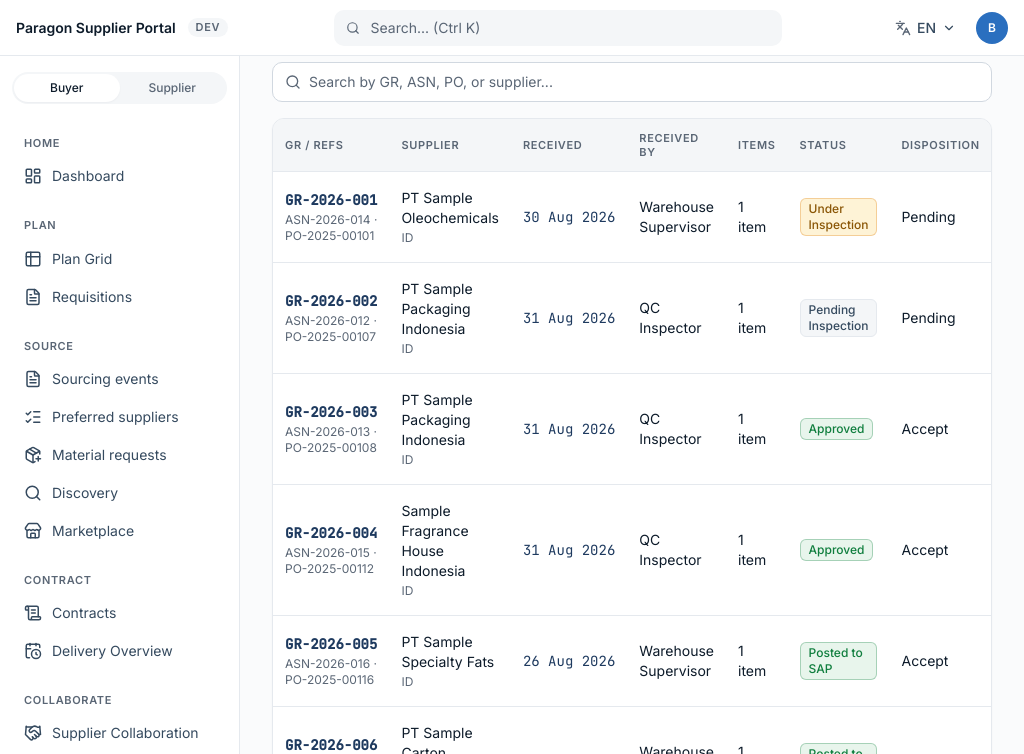
Test: §75 · BuyerGoodsReceipt — the ROW-LEVEL verbs the entry guard did not cover › WITHHELD: a finance seat reads the owner where Post to SAP was
The width and height of the screenshot is (1024, 754).
(page scrolled)
What coordinates should you click on to do the following:
click the text "GR-2026-003"
I would click on:
 (331, 412)
Its box is [285, 402, 377, 422].
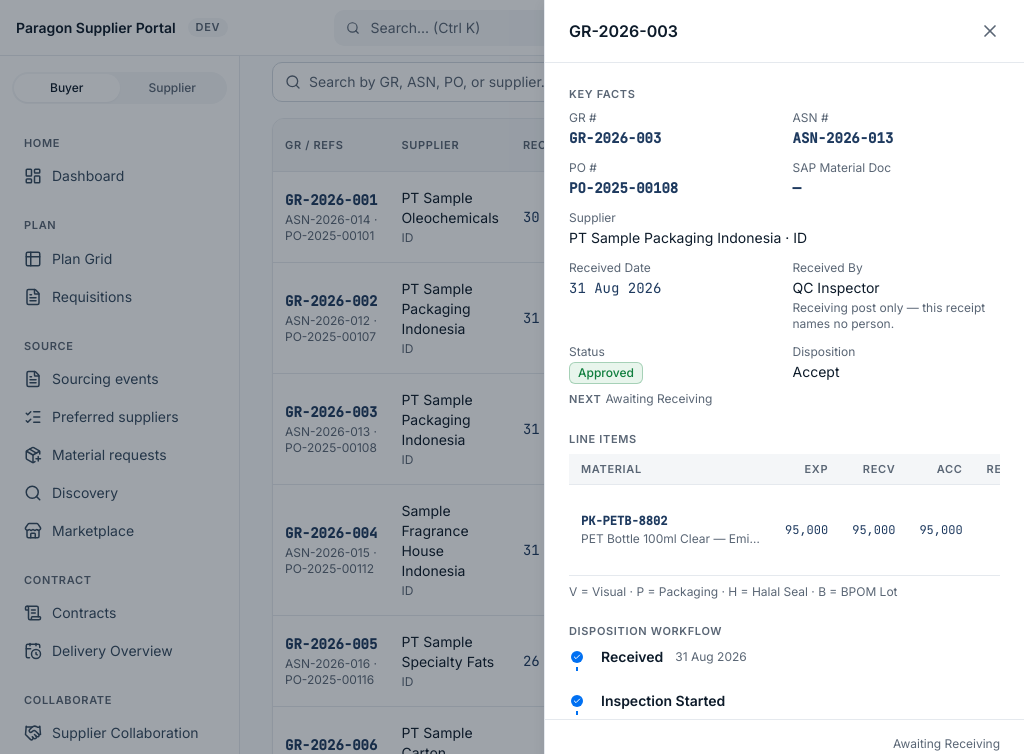
Expected: the text with test id "handoff-gr-post" reads "Awaiting Receiving", [893, 736, 1000, 751]
